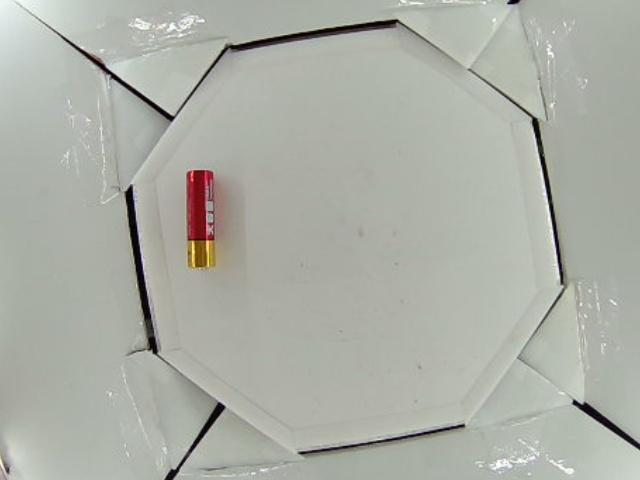Battery: (185, 168, 216, 271)
